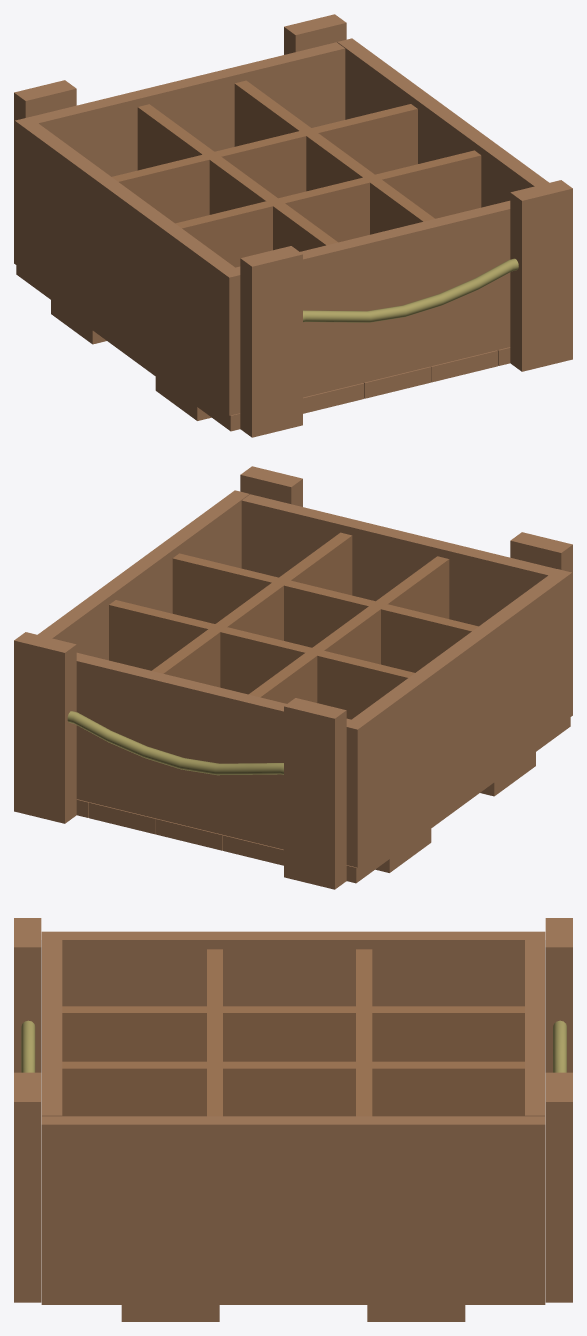
The model's file is GrenadeCrate.fbx.
3 renders of one model, top to bottom at view 1: azimuth 30°, elevation 25°; view 2: azimuth 150°, elevation 25°; view 3: azimuth 270°, elevation 25°, orthographic. The views are drawn at different scales.
Parts seen in each view (by area): view 1: GrenadeCrate_body, GrenadeCrate_dividers, pCylinder17; view 2: GrenadeCrate_body, GrenadeCrate_dividers, pCylinder18; view 3: GrenadeCrate_body, GrenadeCrate_dividers, pCylinder17, pCylinder18.
Boxes of the visible parts, x1,y1,x2,y2 form: GrenadeCrate_body: (14, 14, 572, 437); GrenadeCrate_dividers: (112, 80, 481, 267); pCylinder17: (303, 258, 518, 322); GrenadeCrate_body: (14, 466, 572, 889); GrenadeCrate_dividers: (109, 532, 478, 719); pCylinder18: (67, 711, 283, 775); GrenadeCrate_body: (14, 918, 572, 1321); GrenadeCrate_dividers: (62, 949, 524, 1116); pCylinder17: (21, 1020, 35, 1072); pCylinder18: (553, 1020, 566, 1072).
Bounding box in the file's own units: 131 × 68.91 × 160.
